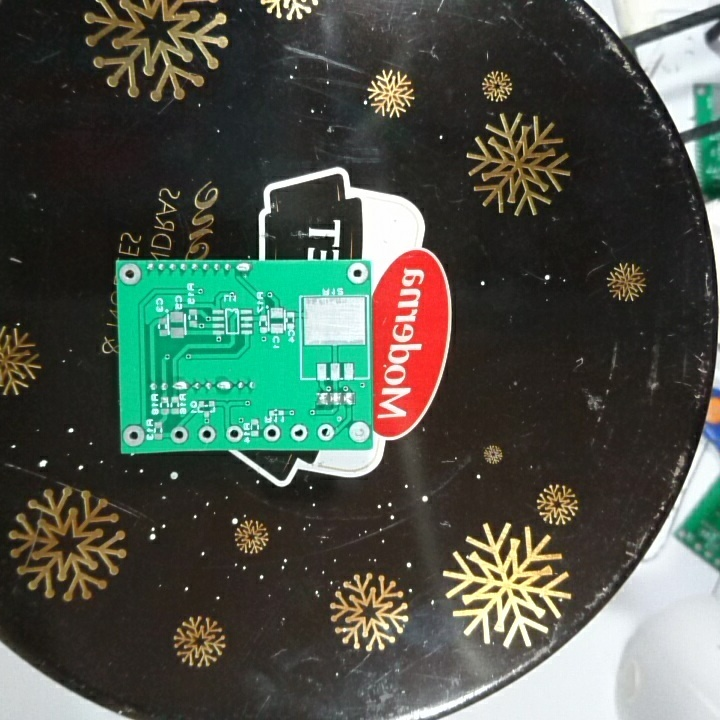F: (117, 260, 142, 287), (122, 422, 146, 450), (347, 418, 371, 444), (345, 260, 370, 284), (288, 420, 308, 443), (168, 424, 189, 445), (196, 423, 217, 444), (261, 422, 281, 444), (224, 423, 243, 445), (315, 421, 334, 443)
P: (234, 260, 254, 277), (216, 378, 233, 395), (170, 378, 189, 393)
